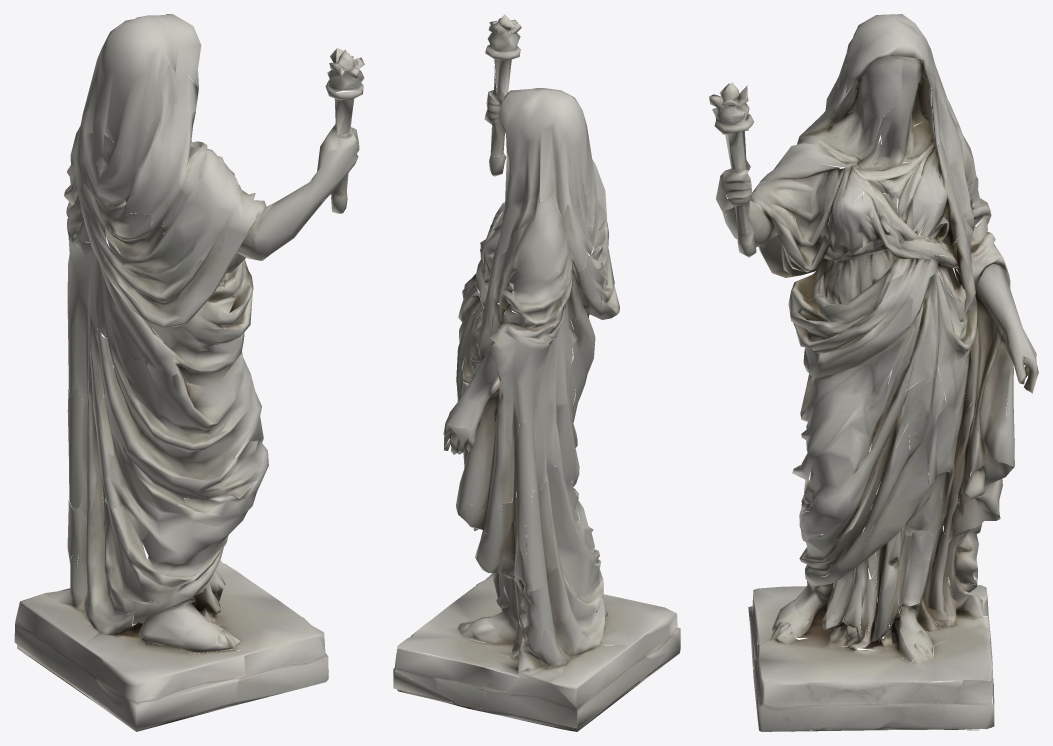
The model's file is cp_statue.glb.
3 views of the same model, side by side, from view 1: azimuth 30°, elevation 25°; view 2: azimuth 150°, elevation 25°; view 3: azimuth 270°, elevation 25° (orthographic). The views are drawn at different scales.
Parts seen in each view (by area): view 1: tripo_node_04852874-17df-4358-9a65-16c517a566f2; view 2: tripo_node_04852874-17df-4358-9a65-16c517a566f2; view 3: tripo_node_04852874-17df-4358-9a65-16c517a566f2.
Part boxes in pixels (x1=…): tripo_node_04852874-17df-4358-9a65-16c517a566f2: x1=14, y1=14, x2=364, y2=731; tripo_node_04852874-17df-4358-9a65-16c517a566f2: x1=393, y1=14, x2=680, y2=731; tripo_node_04852874-17df-4358-9a65-16c517a566f2: x1=709, y1=14, x2=1038, y2=731.
Size of the model in its own units: 0.3623 by 1 by 0.4558.
1 material, 1 textured.
